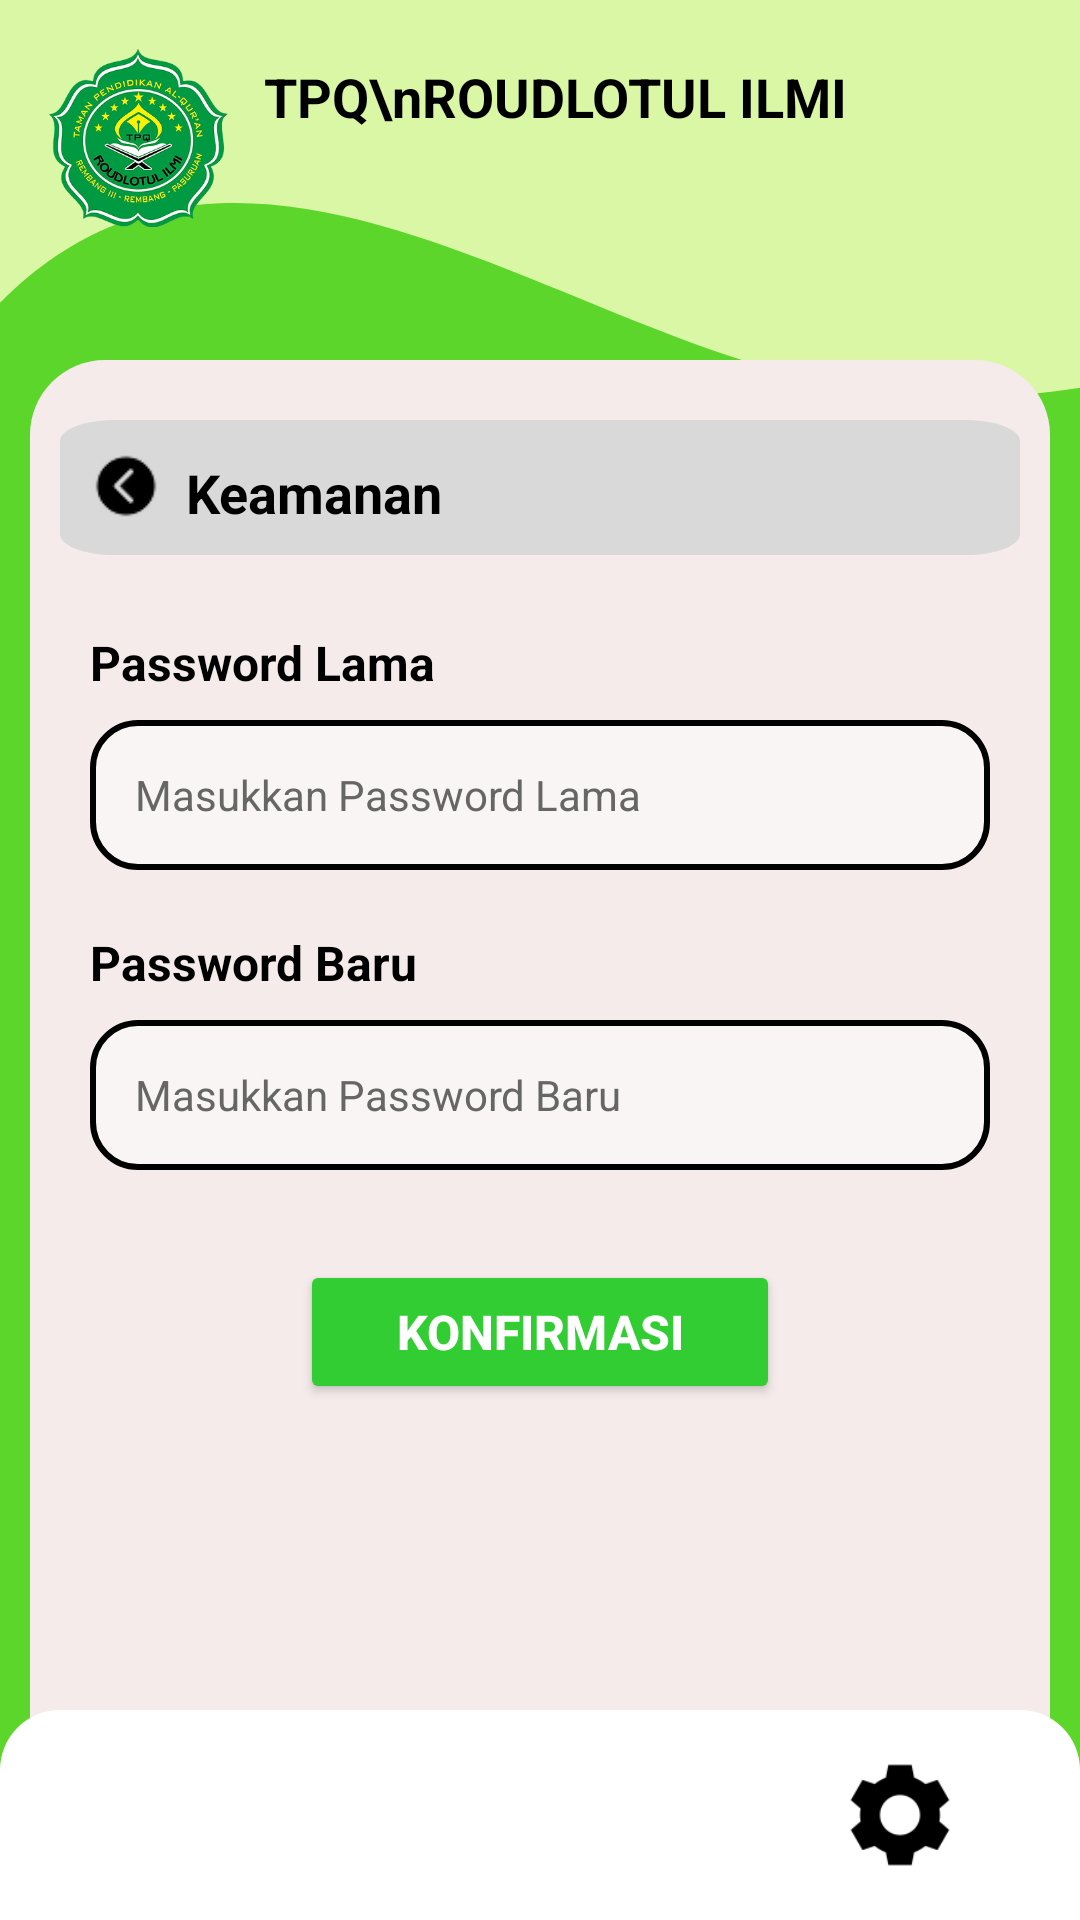

Where to tap for icons on this 1080x1920 app screen, as point (x, y):
Back: point (126, 486)
Settings: point (900, 1815)
